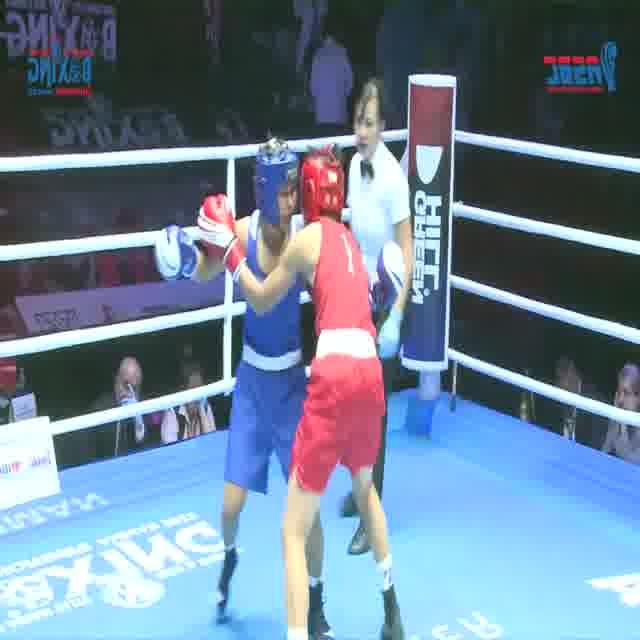blue-player: (146, 139, 410, 640)
red-player: (192, 144, 409, 640)
referee: (330, 73, 410, 560)
